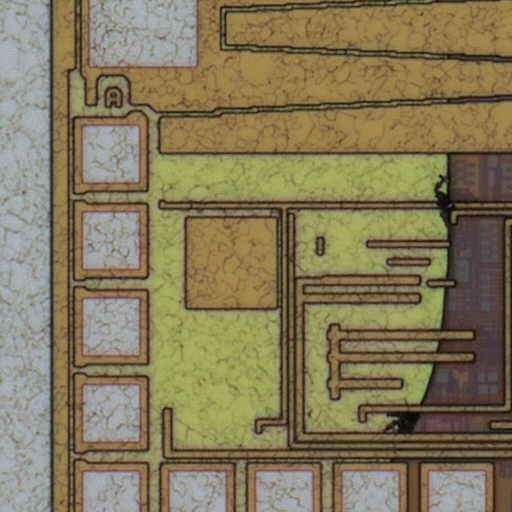COATING BAD: (68, 2, 462, 512)
